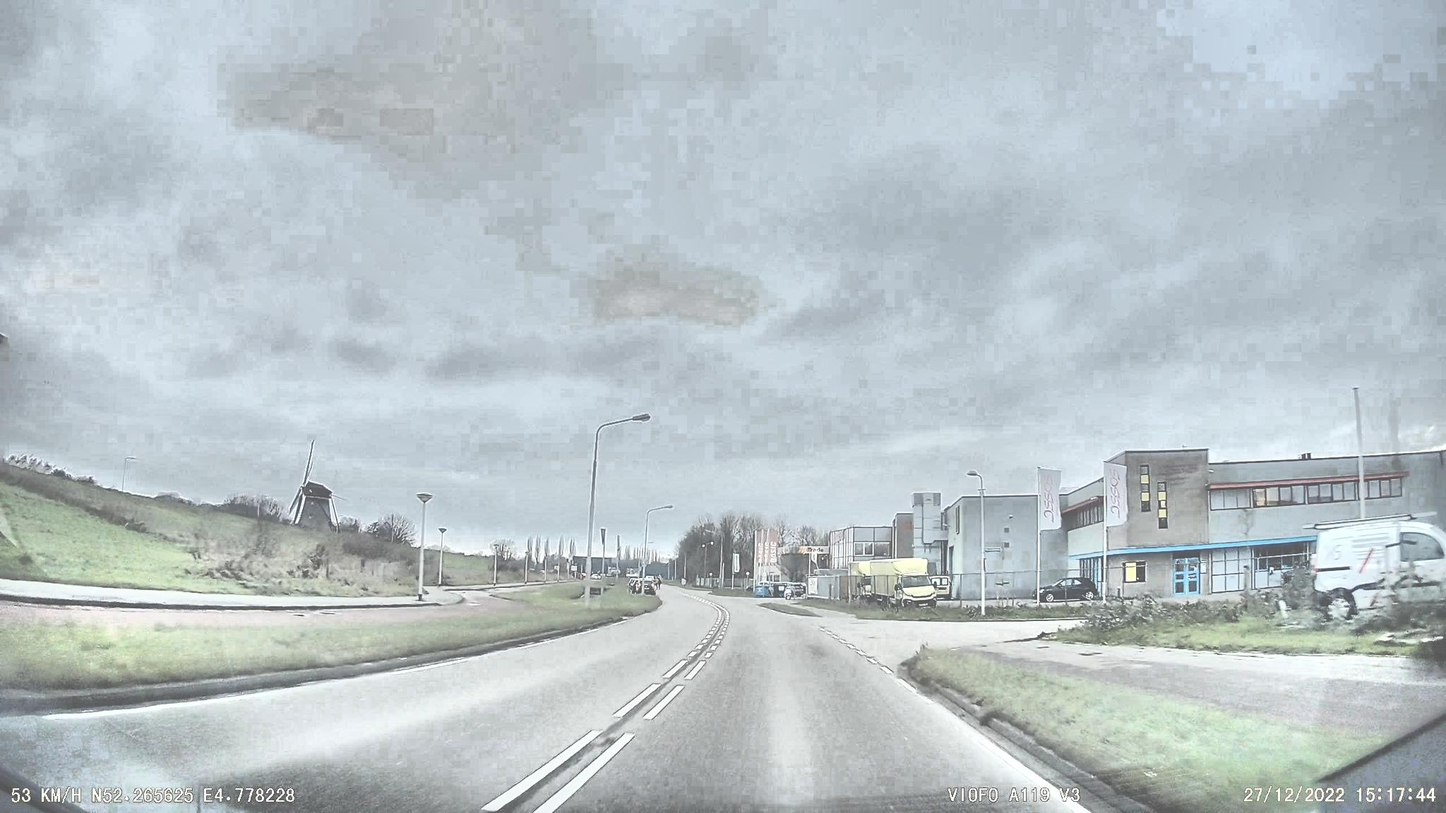Roads: (0, 588, 1158, 813)
